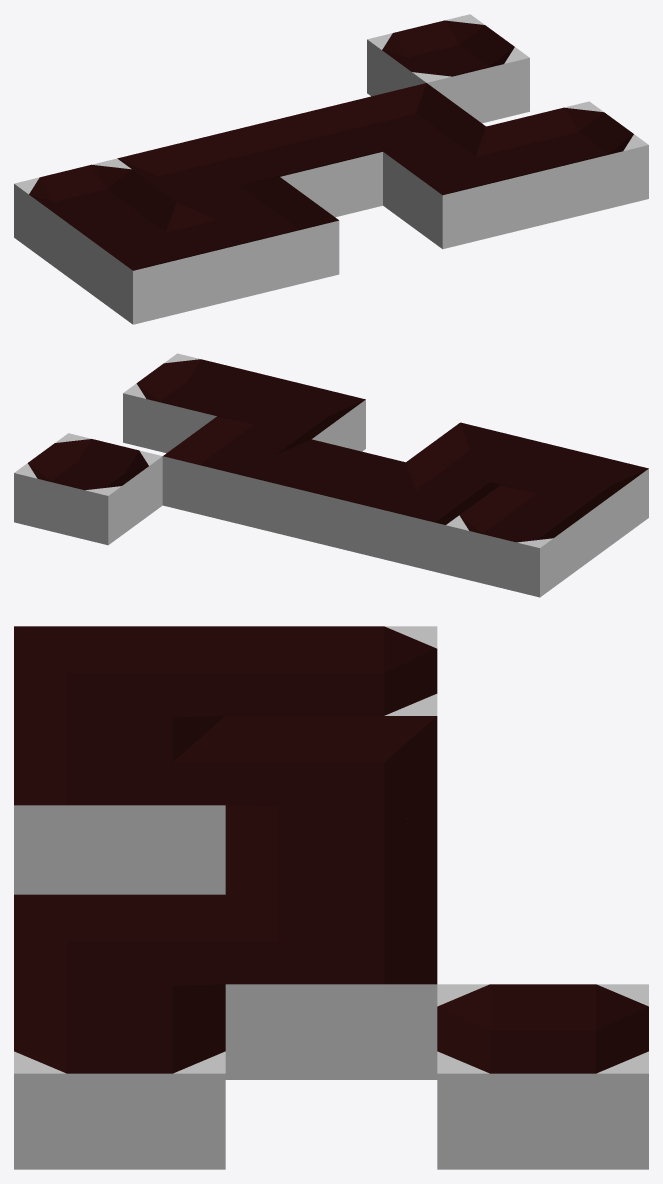
The model's file is 15f_path.obj.
3 renders of one model, top to bottom at view 1: azimuth 30°, elevation 25°; view 2: azimuth 150°, elevation 25°; view 3: azimuth 270°, elevation 25°, orthographic. The views are drawn at different scales.
Visible parts, largest first — view 1: foil.corner.0.2_corner.150, foil.corner.3.2_corner.153, foil.ending.4.2_ending.060, foil.hole.4.4_Cube.031, foil.corner.1.2_corner.151, foil.ending.0.3_ending.059, foil.through.2.3_through.028, foil.corner.3.3_corner.154, foil.corner.1.3_corner.152; view 2: foil.hole.4.4_Cube.031, foil.ending.0.3_ending.059, foil.through.2.3_through.028, foil.corner.3.3_corner.154, foil.ending.4.2_ending.060, foil.corner.1.3_corner.152, foil.corner.0.2_corner.150, foil.corner.3.2_corner.153, foil.corner.1.2_corner.151; view 3: foil.hole.4.4_Cube.031, foil.corner.3.3_corner.154, foil.ending.4.2_ending.060, foil.corner.1.2_corner.151, foil.corner.3.2_corner.153, foil.corner.1.3_corner.152, foil.corner.0.2_corner.150, foil.through.2.3_through.028, foil.ending.0.3_ending.059.
Boxes of the visible parts, bbox=[...] form: foil.corner.0.2_corner.150: bbox=[73, 202, 236, 324]; foil.corner.3.2_corner.153: bbox=[383, 127, 545, 249]; foil.ending.4.2_ending.060: bbox=[486, 101, 648, 223]; foil.hole.4.4_Cube.031: bbox=[367, 14, 529, 123]; foil.corner.1.2_corner.151: bbox=[177, 177, 339, 299]; foil.ending.0.3_ending.059: bbox=[14, 158, 176, 280]; foil.through.2.3_through.028: bbox=[220, 108, 382, 217]; foil.corner.3.3_corner.154: bbox=[323, 83, 485, 158]; foil.corner.1.3_corner.152: bbox=[117, 133, 279, 209]; foil.hole.4.4_Cube.031: bbox=[14, 433, 162, 545]; foil.ending.0.3_ending.059: bbox=[445, 485, 594, 597]; foil.through.2.3_through.028: bbox=[257, 439, 405, 551]; foil.corner.3.3_corner.154: bbox=[162, 416, 311, 528]; foil.ending.4.2_ending.060: bbox=[123, 353, 271, 453]; foil.corner.1.3_corner.152: bbox=[351, 462, 499, 574]; foil.corner.0.2_corner.150: bbox=[500, 445, 648, 557]; foil.corner.3.2_corner.153: bbox=[218, 376, 365, 451]; foil.corner.1.2_corner.151: bbox=[406, 422, 554, 491]; foil.hole.4.4_Cube.031: bbox=[437, 984, 648, 1169]; foil.corner.3.3_corner.154: bbox=[225, 895, 437, 1079]; foil.ending.4.2_ending.060: bbox=[14, 984, 225, 1169]; foil.corner.1.2_corner.151: bbox=[14, 716, 225, 894]; foil.corner.3.2_corner.153: bbox=[14, 894, 225, 1008]; foil.corner.1.3_corner.152: bbox=[225, 716, 437, 829]; foil.corner.0.2_corner.150: bbox=[14, 626, 225, 739]; foil.through.2.3_through.028: bbox=[225, 805, 437, 918]; foil.ending.0.3_ending.059: bbox=[225, 626, 437, 715].
Bounding box in the file's own units: 10 × 1 × 6.
